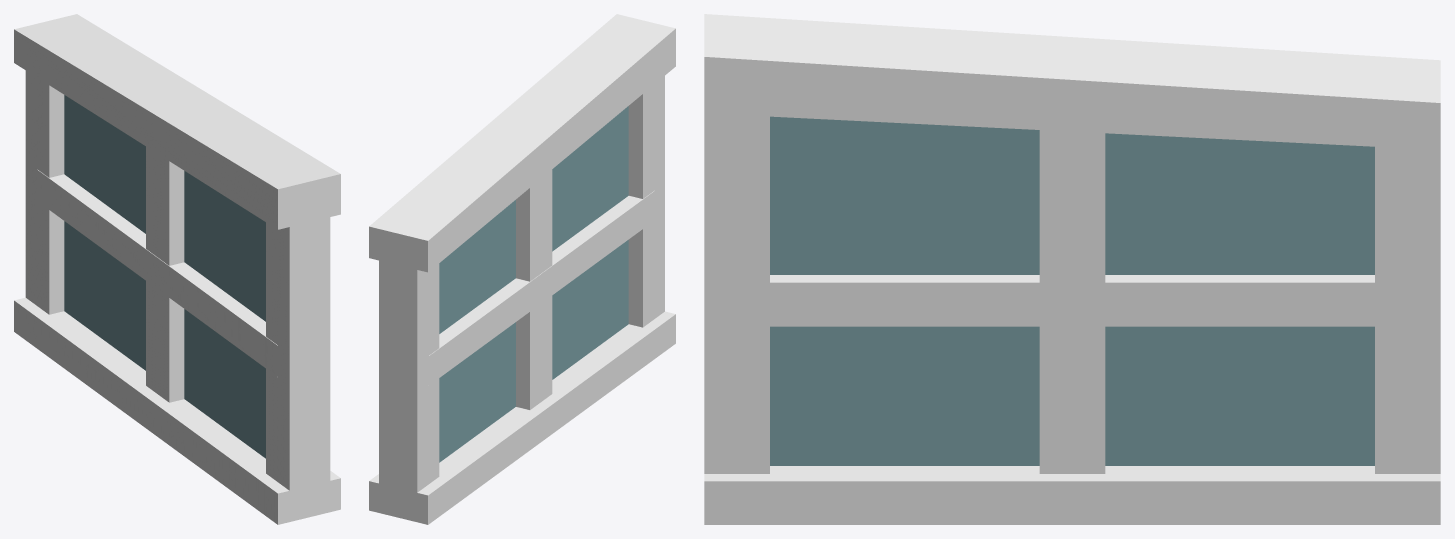
File: Tavern (Window 3).fbx
3 views of the same model, side by side, from view 1: azimuth 30°, elevation 25°; view 2: azimuth 150°, elevation 25°; view 3: azimuth 270°, elevation 25° (orthographic). The views are drawn at different scales.
Visible parts, largest first — view 1: Tavern (Window 3); view 2: Tavern (Window 3); view 3: Tavern (Window 3).
Boxes of the visible parts, left/top/right/bottom form: Tavern (Window 3): left=14, top=14, right=340, bottom=524; Tavern (Window 3): left=369, top=14, right=675, bottom=524; Tavern (Window 3): left=704, top=14, right=1440, bottom=524.
Bounding box in the file's own units: 55.64 × 284 × 404.
